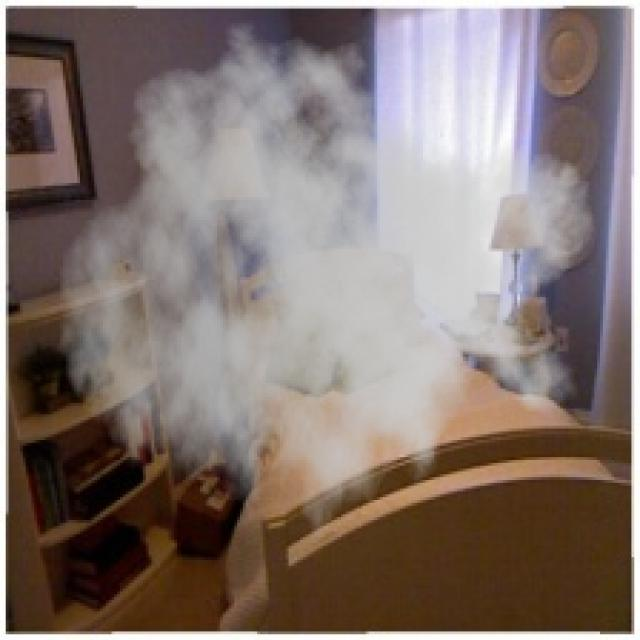smoke: (57, 8, 597, 563)
